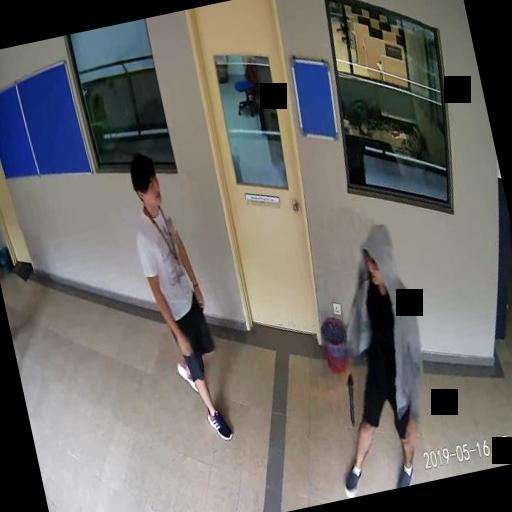Handgun: (338, 372, 362, 424)
